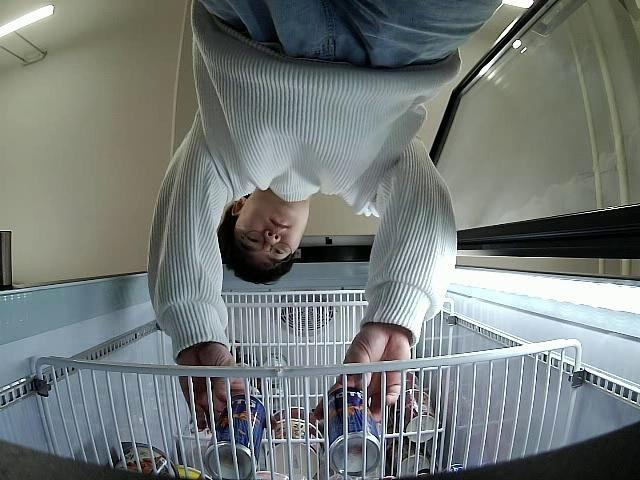16_hot6: (319, 385, 382, 476), (206, 396, 265, 479)
